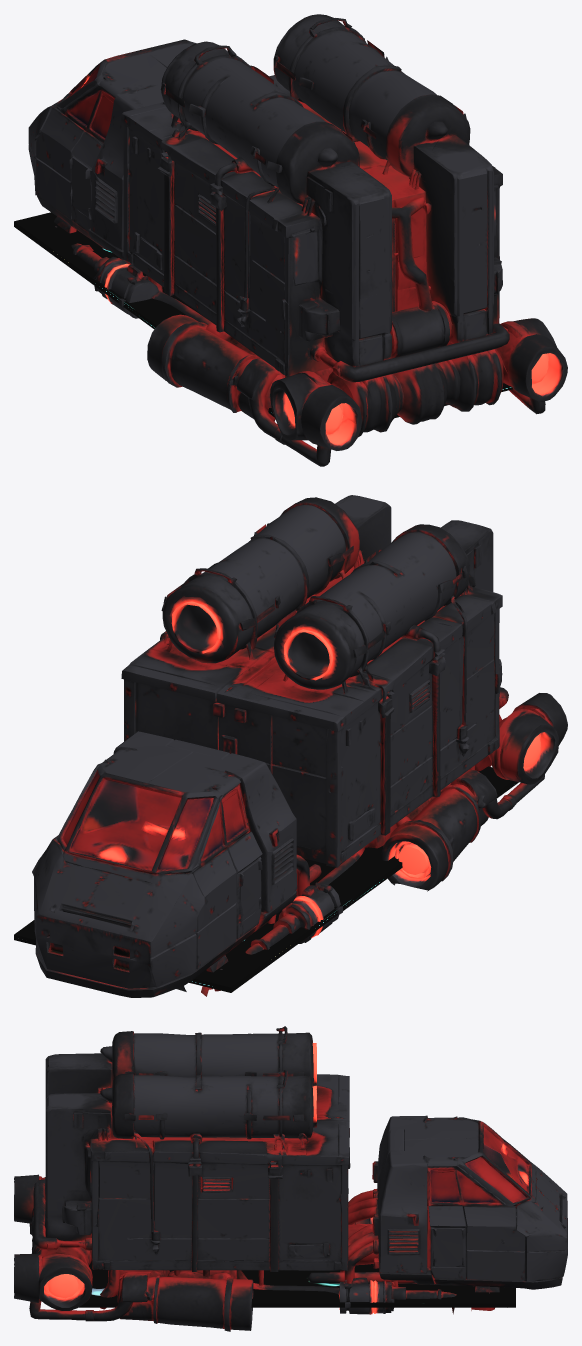
File: hauler_remnant.glb
3 views of the same model, one above another, from view 1: azimuth 30°, elevation 25°; view 2: azimuth 150°, elevation 25°; view 3: azimuth 270°, elevation 25° (orthographic). The views are drawn at different scales.
Parts seen in each view (by area): view 1: model, Underplate; view 2: model, Underplate; view 3: model, Underplate.
Part boxes in pixels (x1,y1,x2,y2): model: [28, 14, 567, 466]; Underplate: [14, 212, 512, 418]; model: [32, 495, 567, 997]; Underplate: [14, 766, 518, 992]; model: [14, 1026, 567, 1331]; Underplate: [79, 1260, 515, 1307].
Bounding box in the file's own units: 3.35 × 3.23 × 7.07.
Materials: 2 (2 with a texture image).
